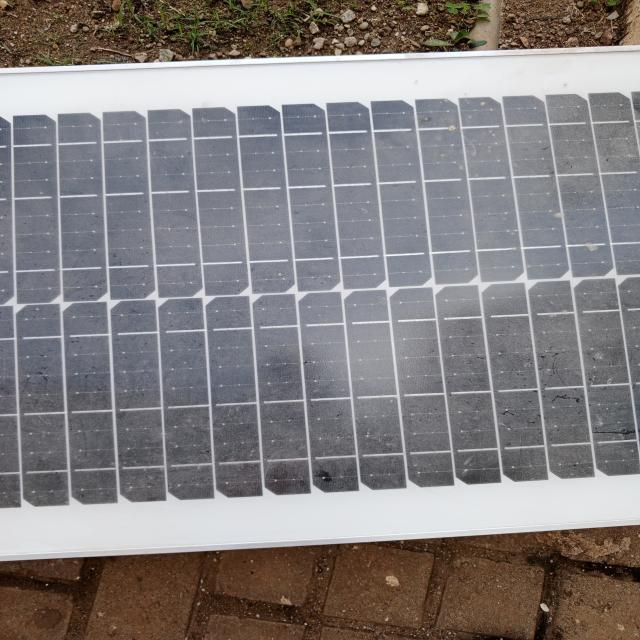Surface Contaminant: (14, 99, 639, 505)
